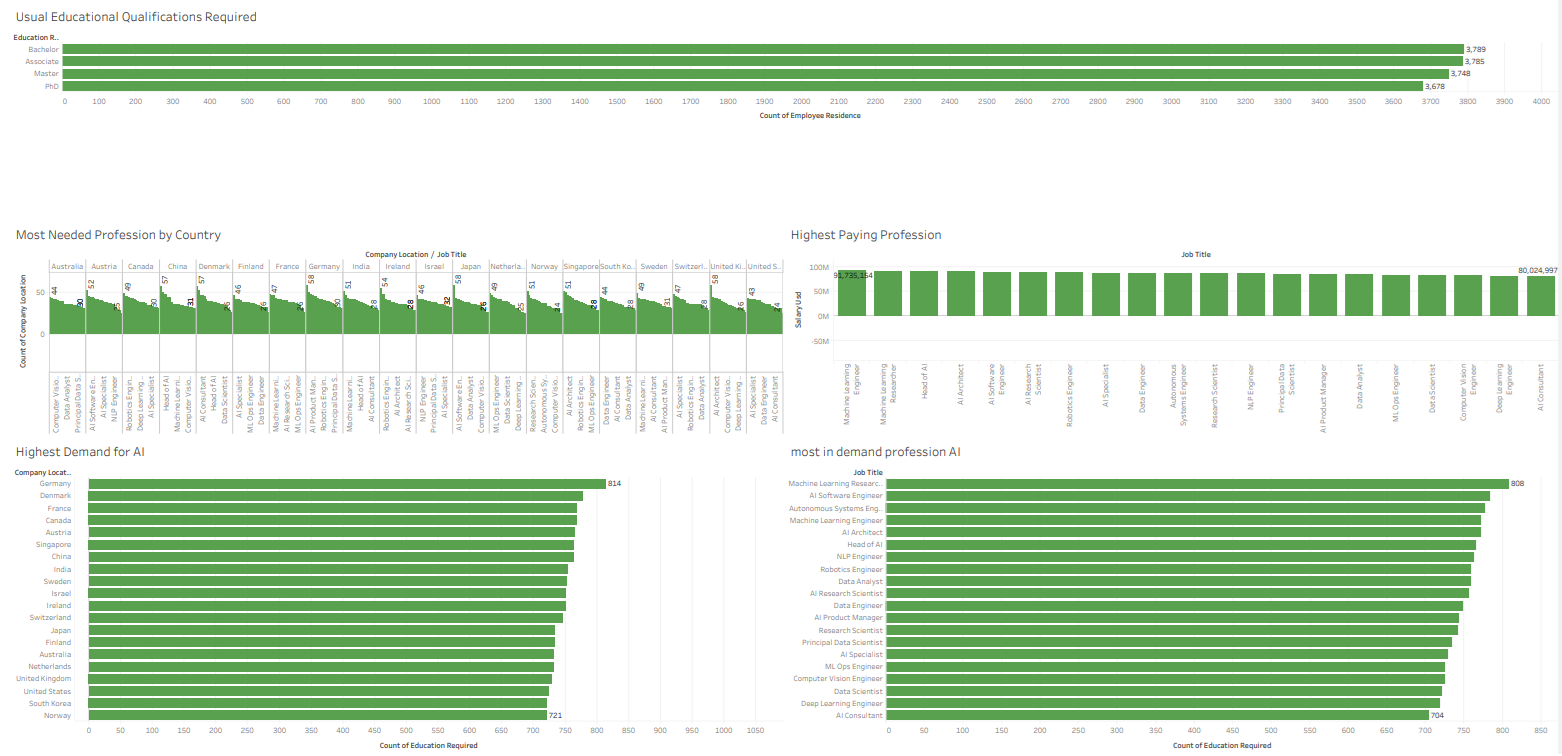

Layout of this report page (visuals, bound fields, positions):
{"tool":"tableau","page":{"name":"Dashboard 1","canvas":[2560,1440],"ordinal":0},"visuals":[{"type":"worksheet","title":"Usual Educational Qualifications Required","mark":"Bar","rows":["education_required"],"cols":["employee_residence"],"box":[8,8,2544,356]},{"type":"worksheet","title":"Most Needed Profession by Country","mark":"Bar","rows":["company_location"],"cols":["company_location","job_title"],"box":[8,364,1272,356]},{"type":"worksheet","title":"Highest Paying Profession","mark":"Automatic","rows":["salary_usd"],"cols":["job_title"],"box":[1280,364,1272,356]},{"type":"worksheet","title":"Highest Demand for AI","mark":"Automatic","rows":["company_location"],"cols":["education_required"],"box":[8,720,1272,712]},{"type":"worksheet","title":"most in demand profession AI","mark":"Automatic","rows":["job_title"],"cols":["education_required"],"box":[1280,720,1272,712]}]}

Visuals, with their boxes on the page's 2560x1440 design canvas (x1, y1, x2, y2). These are canvas units, not pixel positions in the 1562x756 screenshot, which may show the page scaled, cropped or inside an application window:
"Usual Educational Qualifications Required" worksheet (Bar marks): 8:8:2552:364
"Most Needed Profession by Country" worksheet (Bar marks): 8:364:1280:720
"Highest Paying Profession" worksheet: 1280:364:2552:720
"Highest Demand for AI" worksheet: 8:720:1280:1432
"most in demand profession AI" worksheet: 1280:720:2552:1432
